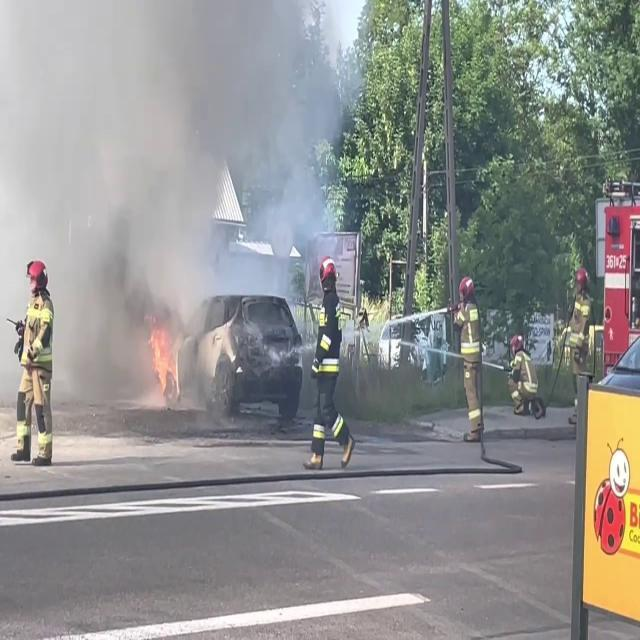Fire: (146, 314, 182, 404)
Smoke: (1, 0, 225, 396)
